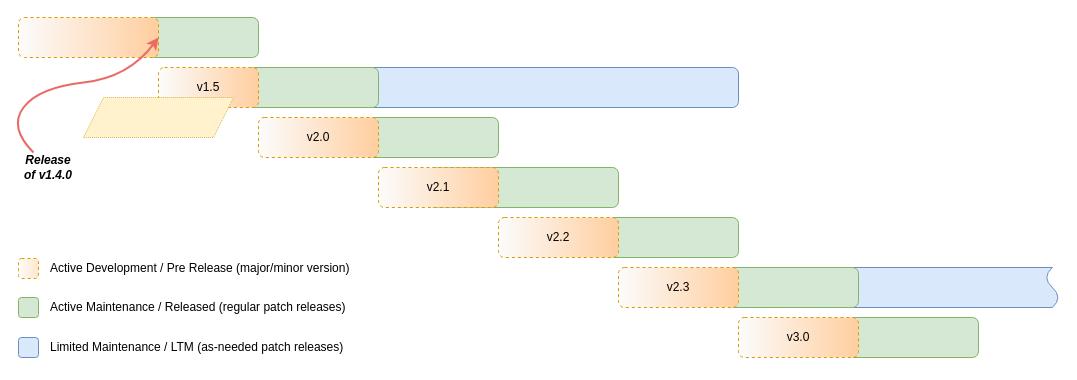
Some shapes in this 1077 by 380 pixel diagram are drawn without their labels. Here are the shapes that lost their labels. From the top down, the centre of each, then its label:
(88,37): v1.4
(158,117): Shortened to "catch up" to release schedule from delayed 1.3 & 1.4
